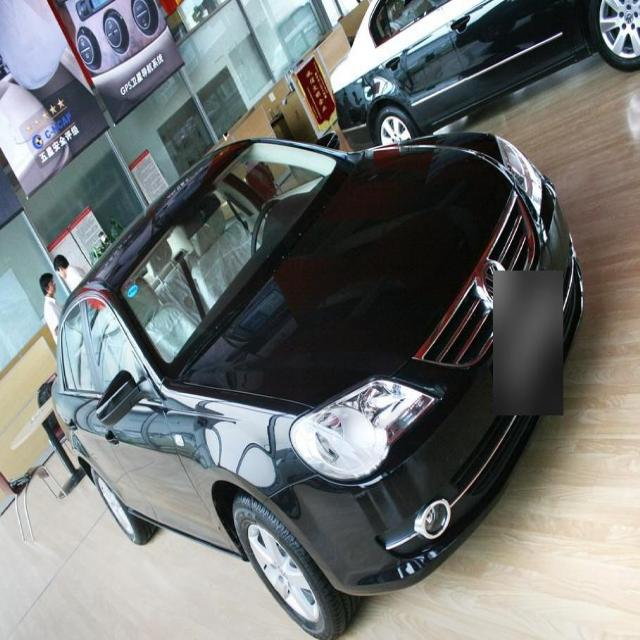front_bumper: (273, 196, 585, 597)
front_glass: (114, 134, 347, 370)
front_left_side_light: (492, 122, 550, 224)
front_right_side_door: (82, 286, 226, 560)
front_right_side_light: (293, 370, 443, 485)
front_right_side_mirror: (92, 371, 149, 442)
